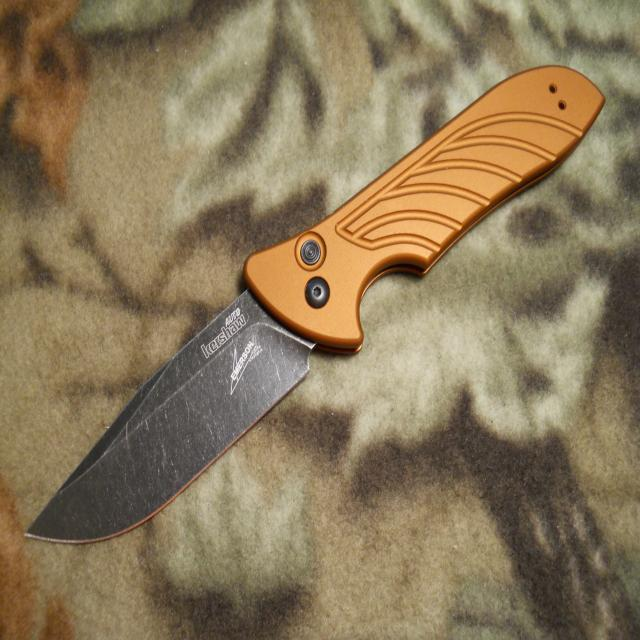knife: (21, 59, 608, 550)
